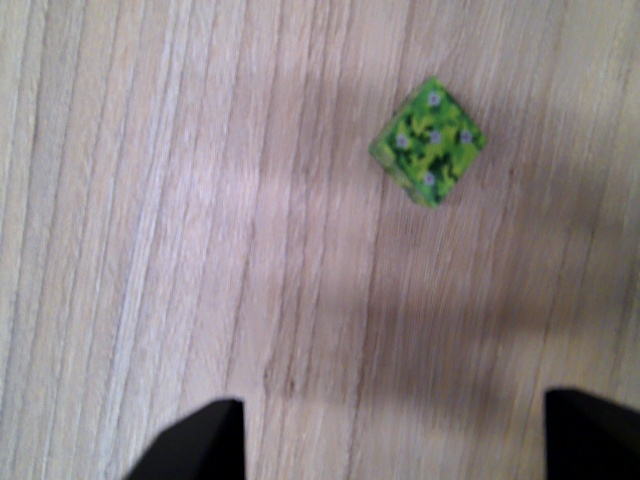grass: (369, 75, 487, 212)
